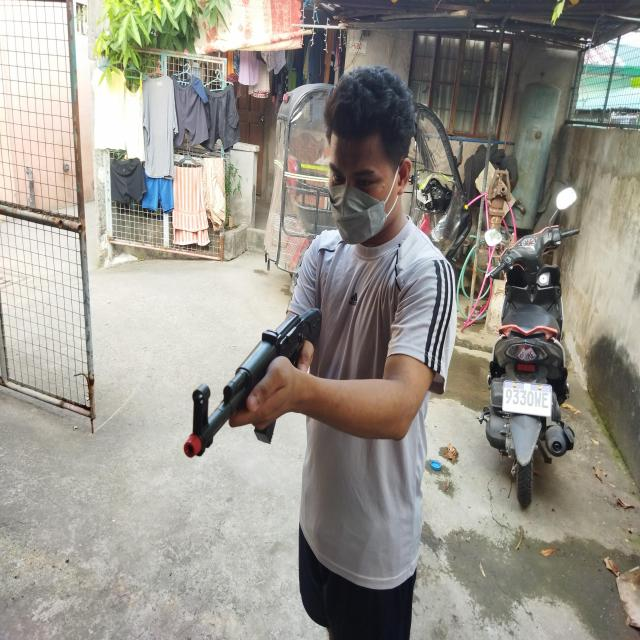rifle: (184, 307, 324, 463)
